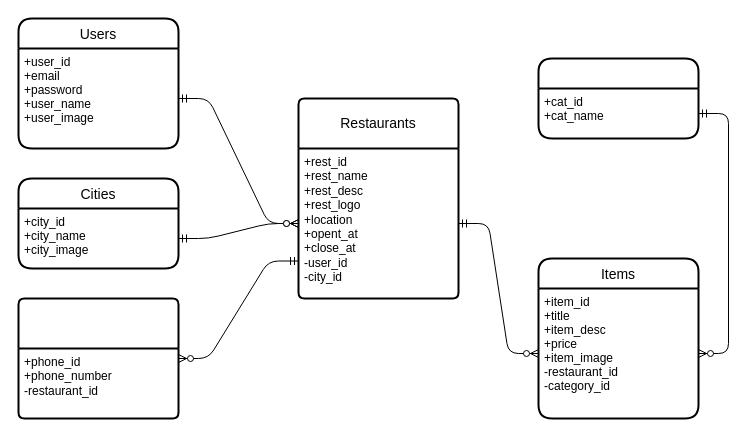
Some shapes in this 755 by 444 pixel diagram are drawn without their labels. Here are the shapes that lost their labels. From the top down, the box of each, then its label:
(537, 57, 699, 139): Categories
(17, 297, 179, 419): Restaurant Phones
